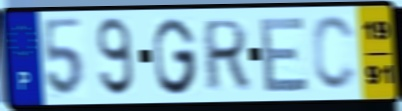5: (40, 15, 87, 101)
9: (94, 15, 137, 100)
C: (310, 13, 360, 94)
E: (258, 13, 312, 95)
G: (151, 16, 200, 98)
R: (203, 17, 251, 94)
